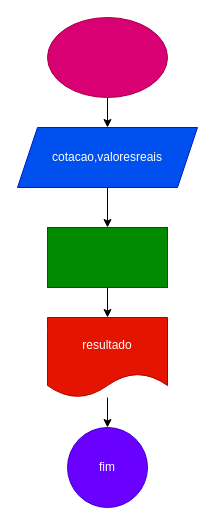
This 215x525 diagram has some shape labels left out. Each missing label, with the centre of its shape:
"inicio" belongs at pixel 107 57.
"resultado = (valoresreais/cotacao)" belongs at pixel 107 257.
